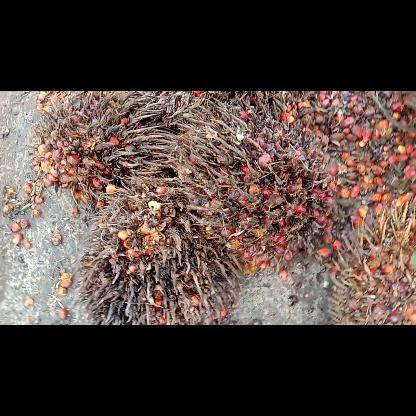Terlalu masak: (158, 95, 340, 278), (71, 182, 246, 324), (24, 90, 186, 212)
